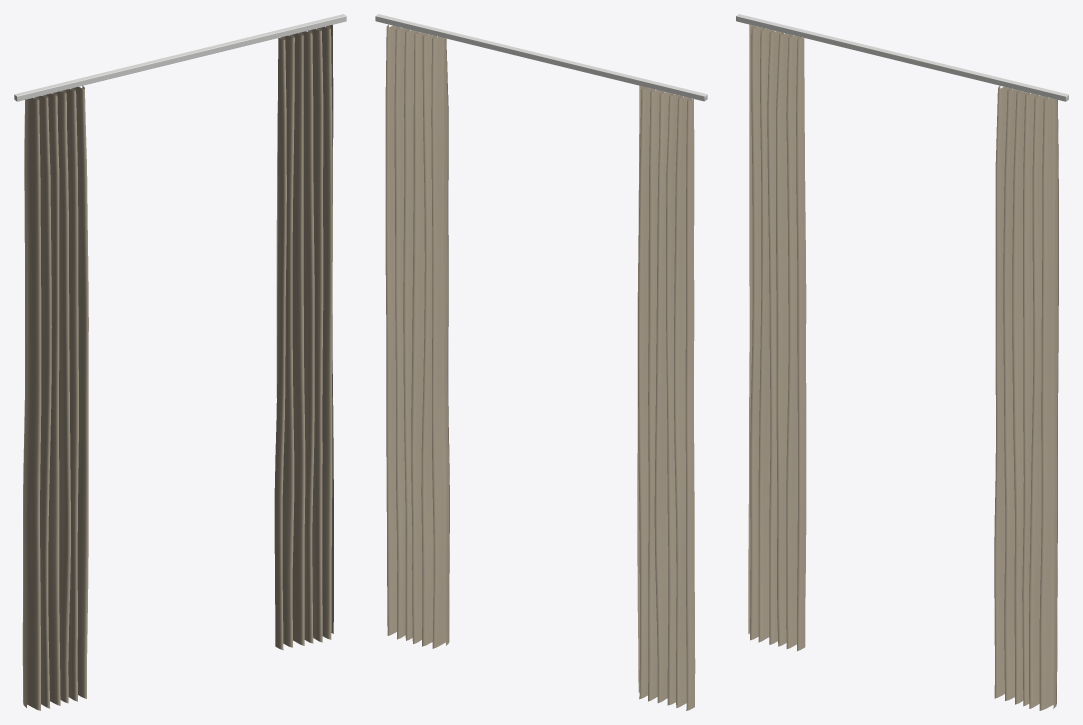
Rendered from curtain.glb.
3 renders of one model, left to right at view 1: azimuth 30°, elevation 25°; view 2: azimuth 150°, elevation 25°; view 3: azimuth 330°, elevation 25°, orthographic.
Parts seen in each view (by area): view 1: curtain_kitchen; view 2: curtain_kitchen; view 3: curtain_kitchen.
Part boxes in pixels (x1=…): curtain_kitchen: x1=14, y1=14, x2=346, y2=710; curtain_kitchen: x1=375, y1=14, x2=707, y2=710; curtain_kitchen: x1=736, y1=14, x2=1068, y2=710.
Bounding box in the file's own units: 1.35 × 2.41 × 0.1137.
